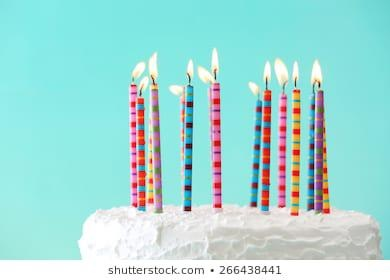fire: (206, 47, 220, 84), (146, 52, 158, 87), (309, 58, 322, 87), (290, 57, 299, 91)
